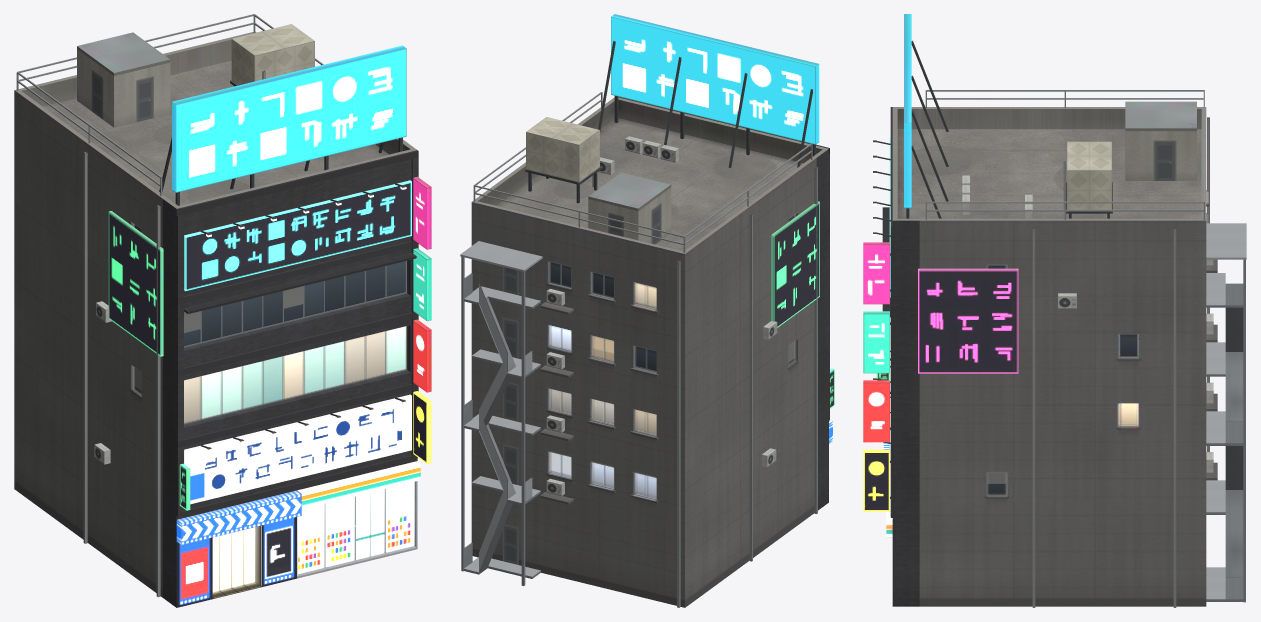
The model's file is tokyo_zakkyo_f.glb.
3 renders of one model, left to right at view 1: azimuth 30°, elevation 25°; view 2: azimuth 150°, elevation 25°; view 3: azimuth 270°, elevation 25°, orthographic. The views are drawn at different scales.
Parts seen in each view (by area): view 1: tokyo_zakkyo_f; view 2: tokyo_zakkyo_f; view 3: tokyo_zakkyo_f.
Boxes of the visible parts, box(x1,y1,x2,y2) form: tokyo_zakkyo_f: box(14, 14, 431, 607); tokyo_zakkyo_f: box(460, 14, 834, 607); tokyo_zakkyo_f: box(863, 14, 1246, 607).
Size of the model in its own units: 12.64 by 23.7 by 17.12.
1 material, 1 textured.
